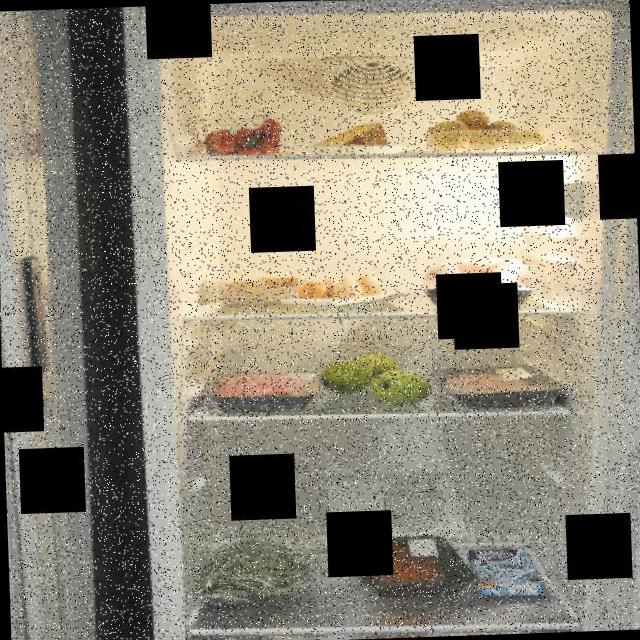Carne pollo: (416, 244, 542, 312), (426, 360, 570, 412)
Carne vacuno: (340, 529, 480, 602)
Huevos: (296, 271, 382, 308)
Manzana: (314, 344, 437, 414)
Patata: (414, 104, 553, 154)
Queso: (302, 115, 394, 156)
